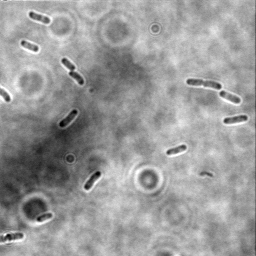Dividing: (61, 56, 86, 86), (186, 77, 222, 89)
Rod: (58, 108, 79, 129), (83, 169, 103, 191), (219, 89, 243, 105), (28, 10, 52, 25), (165, 143, 189, 156), (222, 114, 249, 125), (20, 39, 40, 53), (36, 211, 54, 223)
